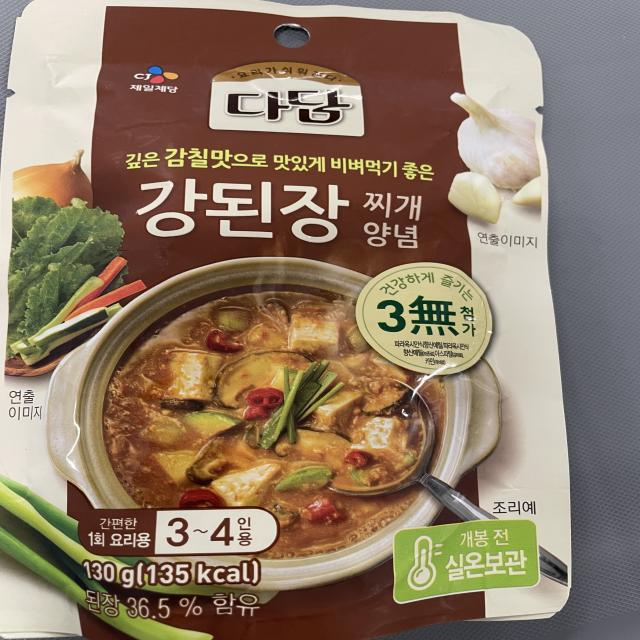object_name: (28, 5, 574, 633)
